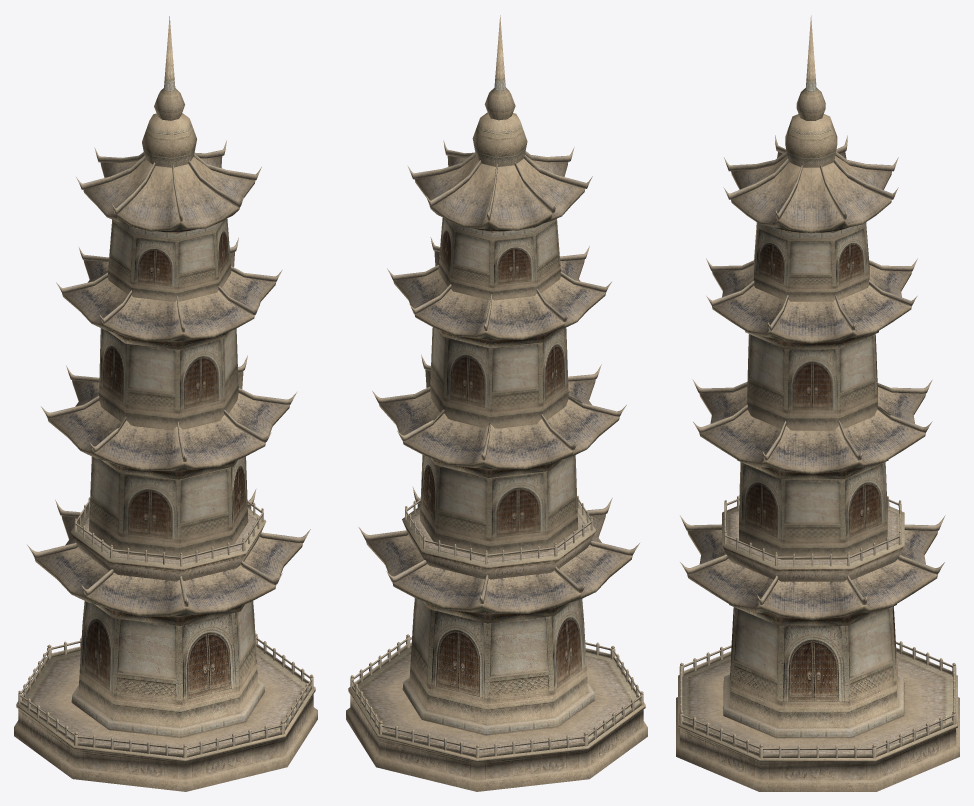
File: desert_tower.glb
3 renders of one model, left to right at view 1: azimuth 30°, elevation 25°; view 2: azimuth 150°, elevation 25°; view 3: azimuth 270°, elevation 25°, orthographic.
Parts seen in each view (by area): view 1: desert_tower02_02, desert_tower02_03, desert_tower02_01; view 2: desert_tower02_02, desert_tower02_03, desert_tower02_01; view 3: desert_tower02_02, desert_tower02_03, desert_tower02_01.
Boxes of the visible parts, left/top/right/bottom form: desert_tower02_02: left=27, top=113, right=310, bottom=738; desert_tower02_03: left=34, top=16, right=302, bottom=625; desert_tower02_01: left=14, top=497, right=317, bottom=791; desert_tower02_02: left=358, top=112, right=639, bottom=735; desert_tower02_03: left=366, top=15, right=632, bottom=623; desert_tower02_01: left=346, top=495, right=647, bottom=791; desert_tower02_02: left=680, top=114, right=945, bottom=738; desert_tower02_03: left=687, top=15, right=937, bottom=625; desert_tower02_01: left=676, top=496, right=959, bottom=791.
Size of the model in its own units: 17.02 by 47.5 by 17.02.
3 materials, 3 textured.
